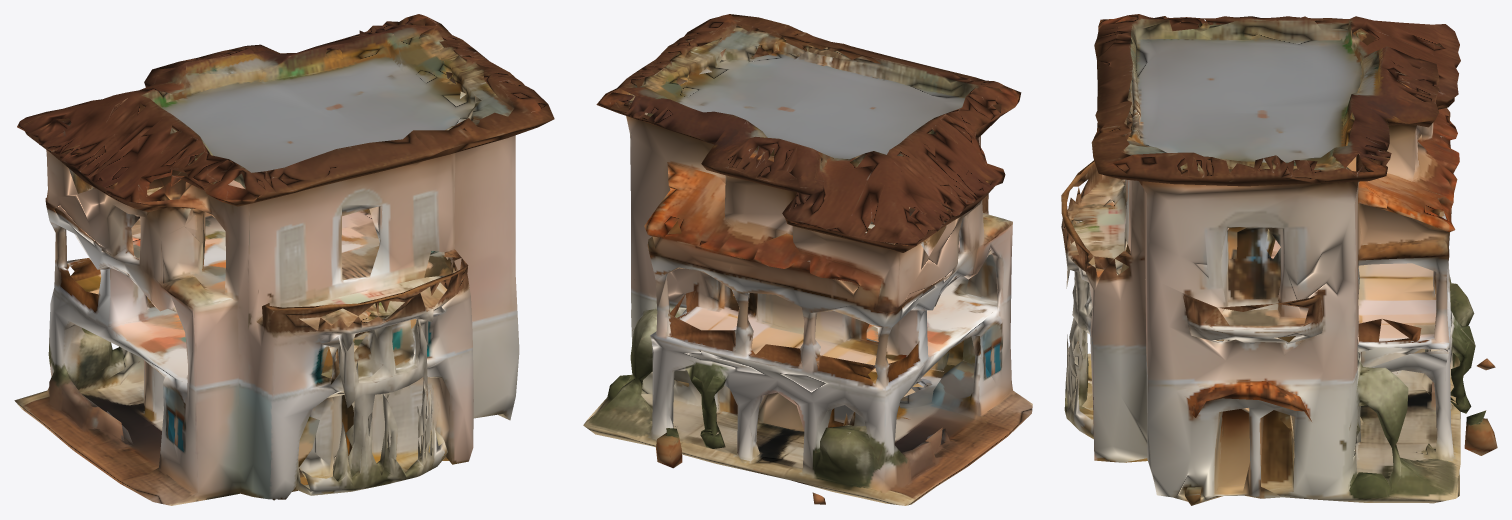
Rendered from villa.glb.
The picture shows the model from 3 angles, left to right: view 1: azimuth 30°, elevation 25°; view 2: azimuth 150°, elevation 25°; view 3: azimuth 270°, elevation 25°; orthographic projection. The views are drawn at different scales.
Visible parts, largest first — view 1: geometry_0; view 2: geometry_0; view 3: geometry_0.
Boxes of the visible parts, x1,y1,x2,y2 form: geometry_0: (14, 14, 554, 505); geometry_0: (583, 14, 1032, 505); geometry_0: (1061, 14, 1497, 505).
Bounding box in the file's own units: 0.9963 × 0.8385 × 0.9437.
Materials: 1 (1 with a texture image).
